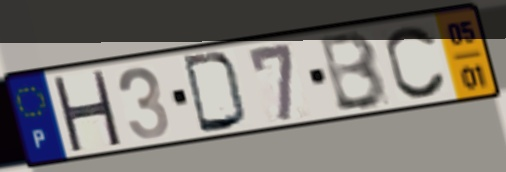3: (116, 65, 171, 141)
7: (244, 39, 299, 123)
B: (317, 28, 390, 114)
C: (383, 23, 450, 101)
D: (179, 50, 250, 135)
H: (48, 69, 124, 152)
